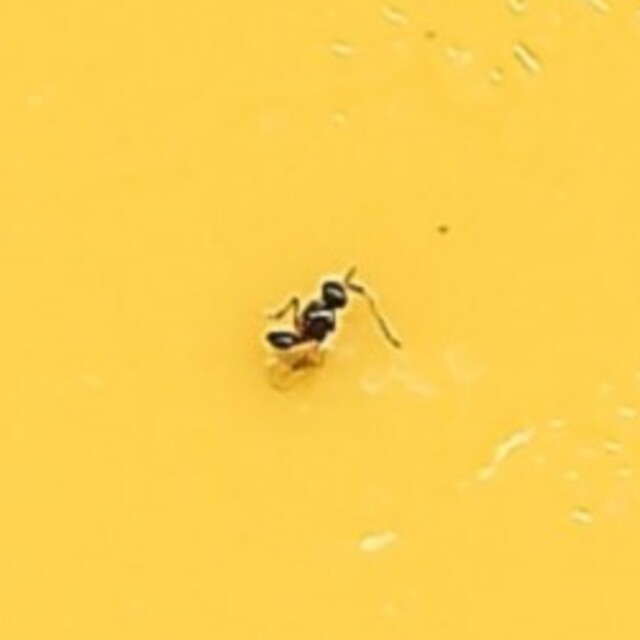Hymenoptera: (256, 266, 384, 374)
